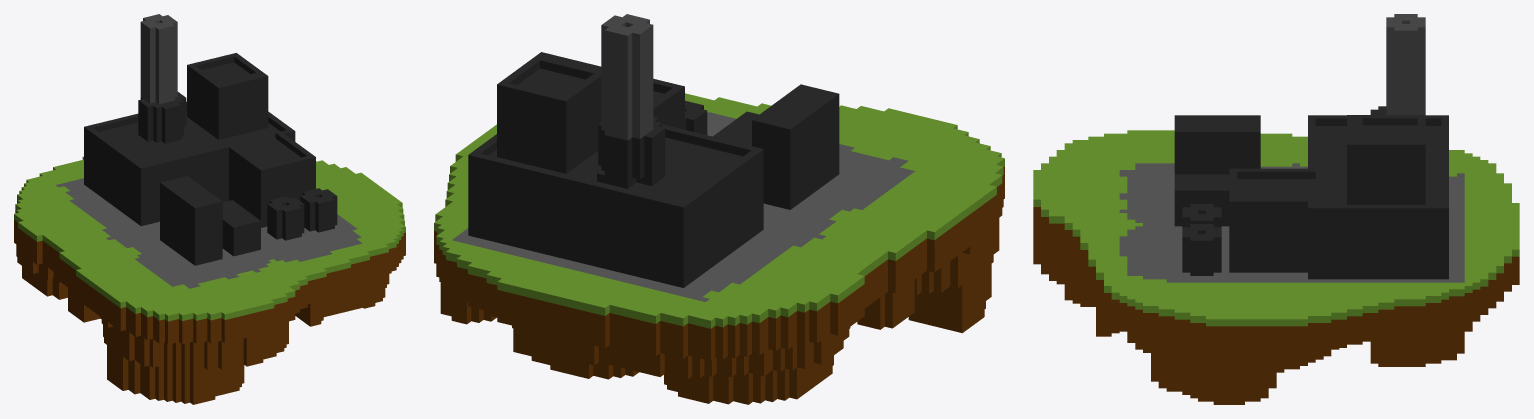
File: factory0.obj
3 renders of one model, left to right at view 1: azimuth 30°, elevation 25°; view 2: azimuth 150°, elevation 25°; view 3: azimuth 270°, elevation 25°, orthographic. The views are drawn at different scales.
Bounding box in the file's own units: 5.7 × 4.4 × 6.2.
1 material, 1 textured.
